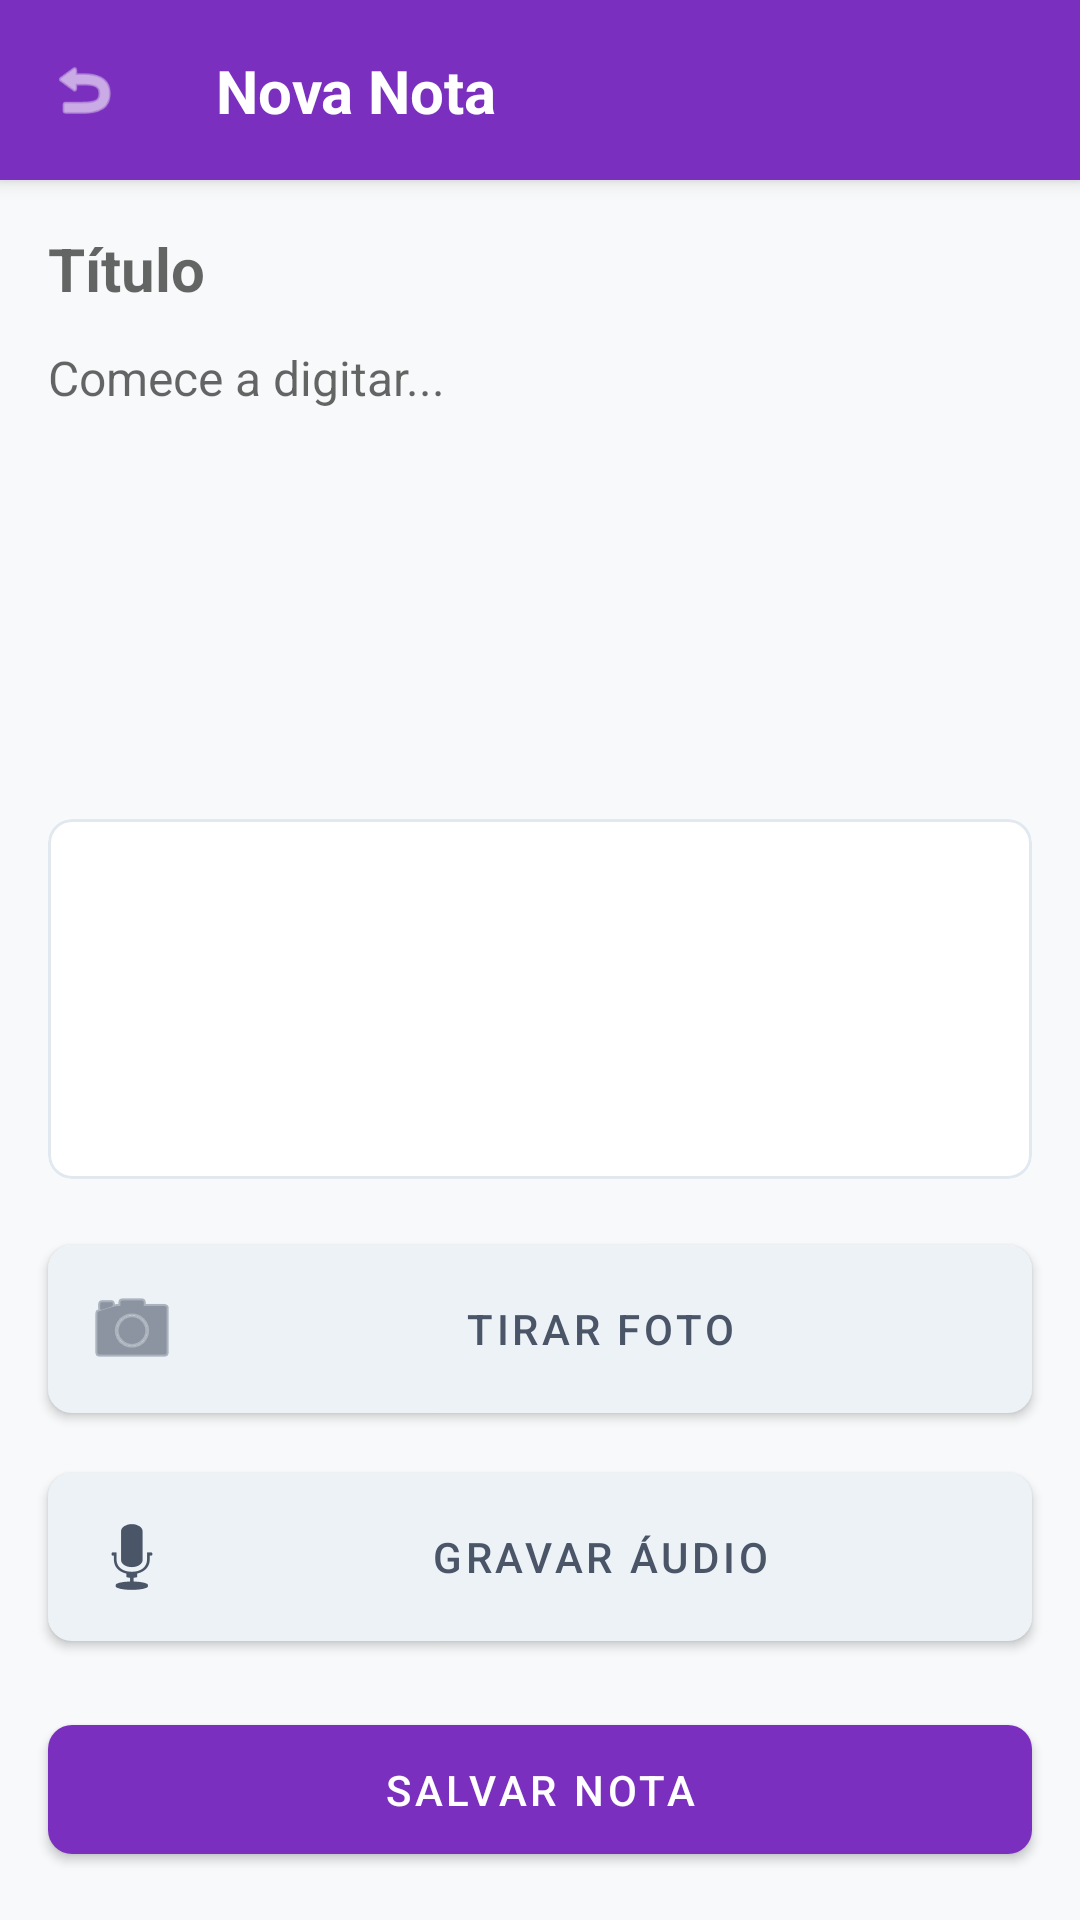

Icon bounding boxes for this 1080*1920 phone screenshot, format {"left": x1, "top": y1, "right": x2, "bottom": y2}:
revert: {"left": 59, "top": 67, "right": 111, "bottom": 114}
